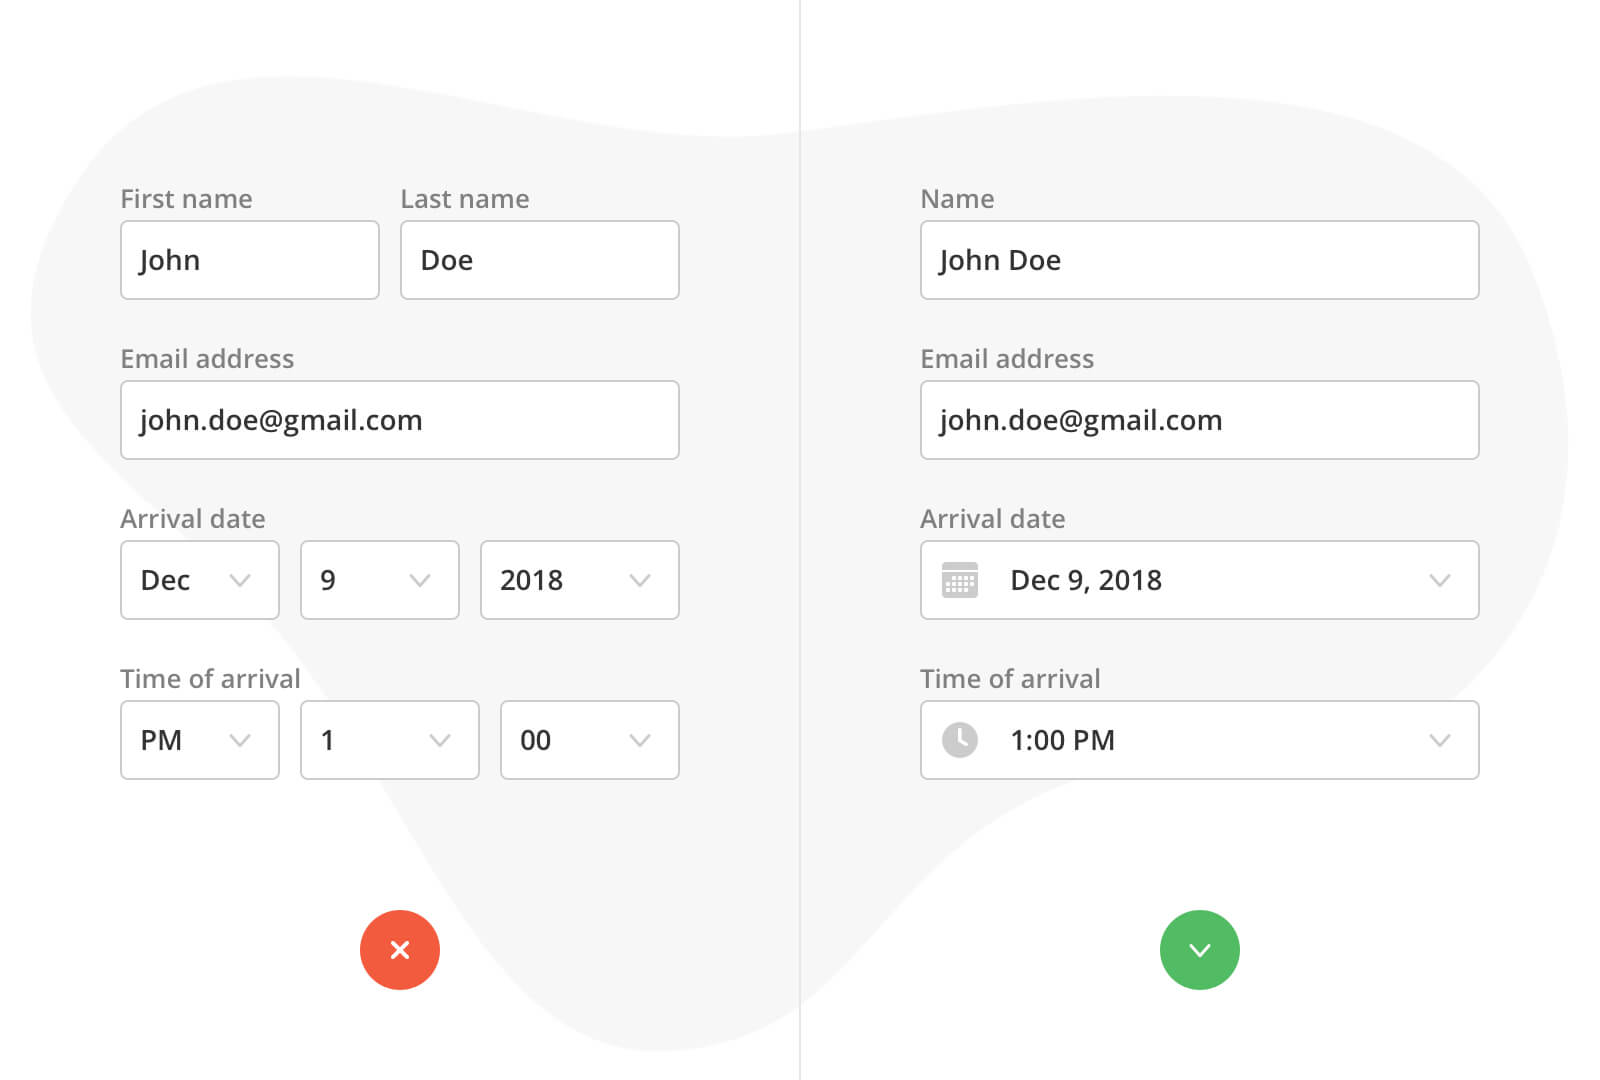_form_: (896, 170, 1498, 799), (98, 174, 699, 802)
field: (917, 216, 1480, 303), (117, 377, 680, 462), (920, 377, 1482, 459), (401, 217, 683, 303), (116, 216, 380, 301)
field_with_label: (913, 506, 1486, 627), (113, 347, 686, 466), (913, 184, 1483, 303), (919, 665, 1481, 783), (916, 350, 1486, 462), (396, 184, 687, 305), (112, 187, 383, 306), (113, 667, 294, 783), (114, 509, 286, 622)
select: (917, 540, 1480, 622), (920, 699, 1480, 777), (480, 540, 682, 621), (299, 699, 480, 781), (499, 699, 680, 781), (299, 540, 461, 622), (118, 540, 282, 620), (120, 699, 280, 780)
